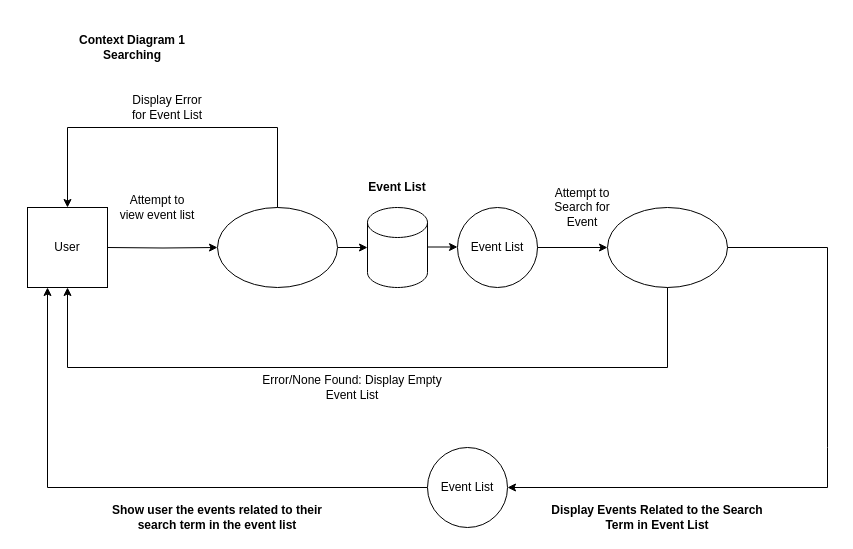
The diagram is 853 pixels wide and 549 high, and some of its shapes have lost their labels. Each missing label, with the box of its shape:
Type in Search Term into Search Bar: (606, 206, 728, 288)
View Event List: (216, 206, 338, 288)
